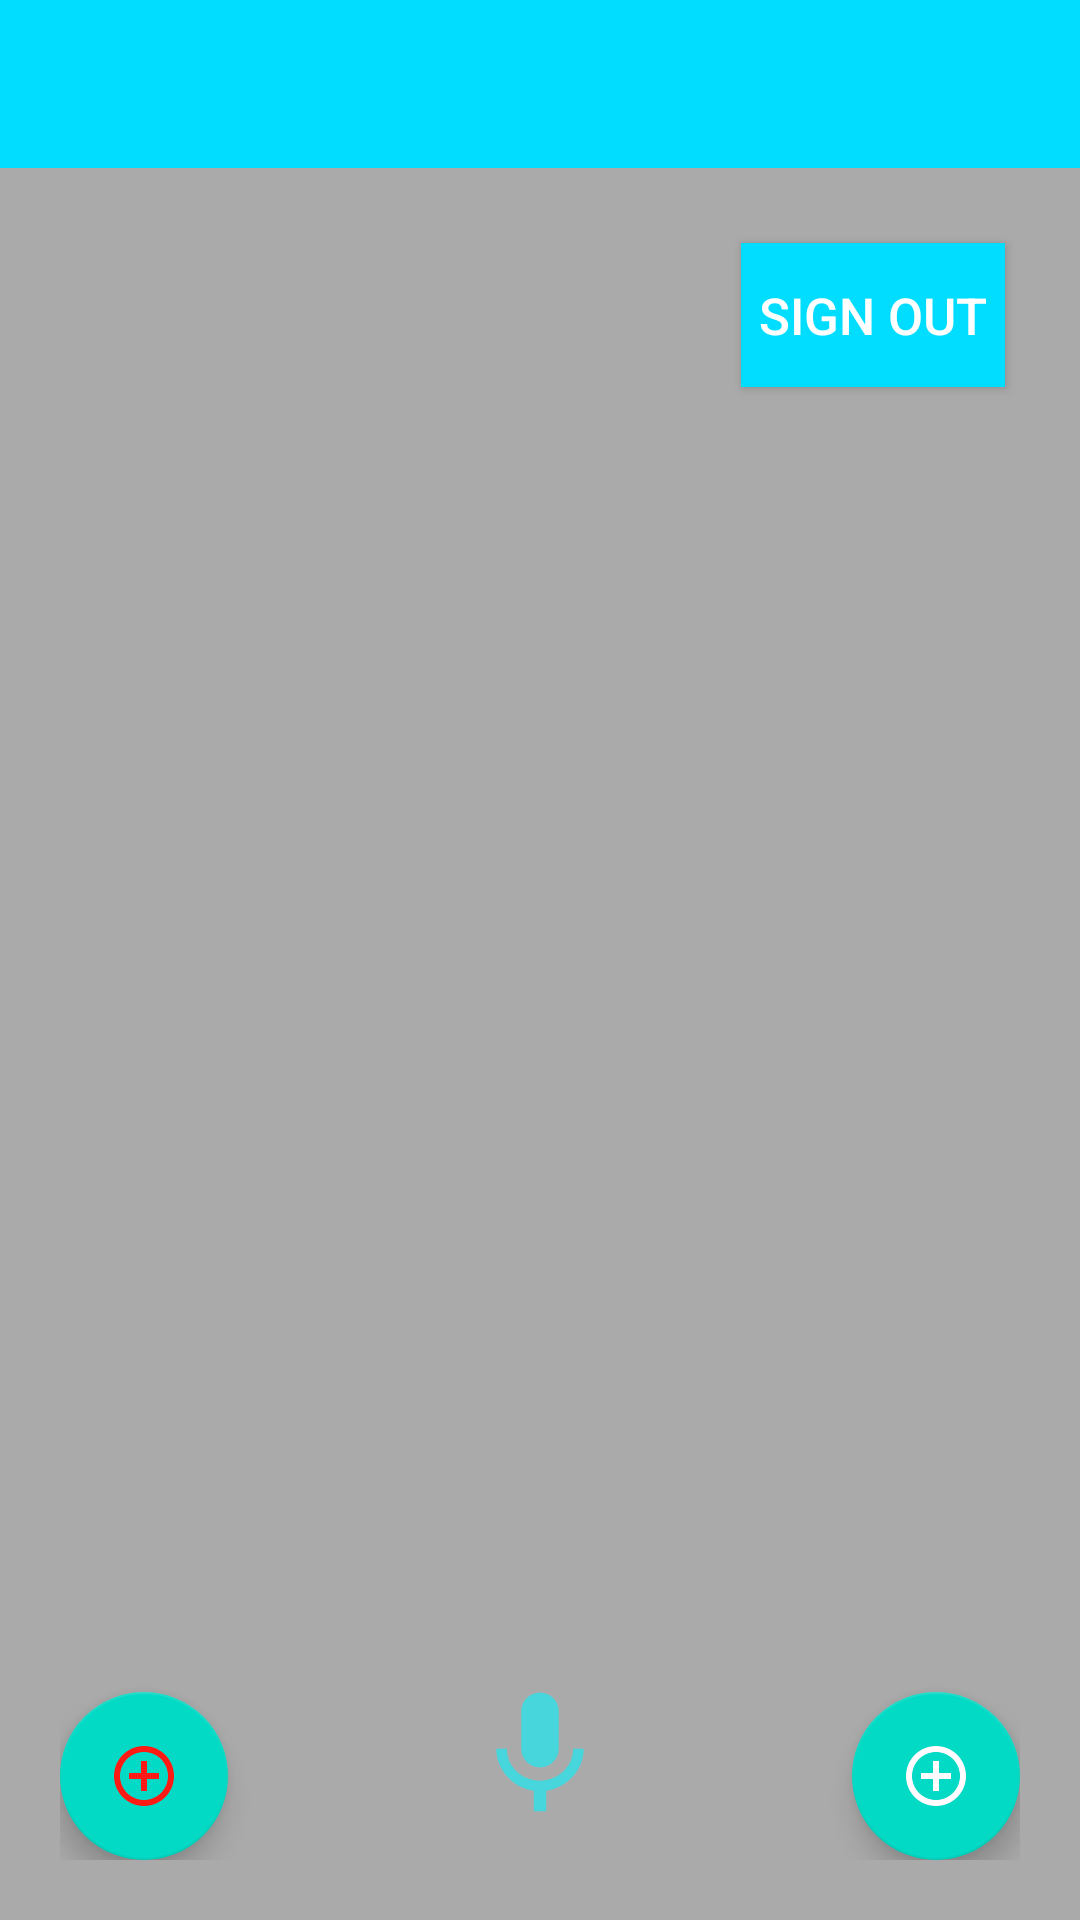

Icon bounding boxes for this 1080x1920 phone screenshot, format (x1, y1, x2, y2):
control point: (60, 1692, 228, 1860), (852, 1692, 1020, 1860)
mic: (496, 1692, 584, 1812)
